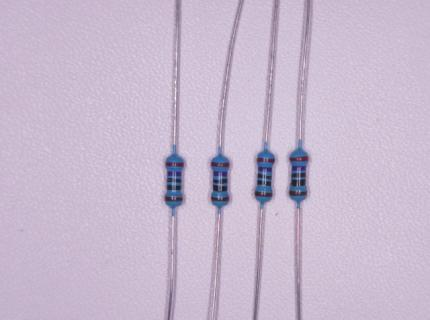Black band: (291, 179, 306, 187), (213, 185, 227, 192), (257, 180, 271, 187), (167, 184, 181, 190), (258, 173, 272, 179), (213, 179, 228, 184), (167, 178, 181, 183), (292, 172, 306, 177)
Brown band: (288, 190, 307, 196), (211, 196, 230, 202), (165, 196, 184, 202), (254, 191, 272, 197)
Red band: (164, 161, 184, 167), (289, 156, 309, 162), (210, 161, 229, 167), (256, 157, 274, 163)
Violet band: (213, 171, 227, 177), (292, 166, 307, 171), (258, 166, 272, 171), (167, 171, 181, 176)
